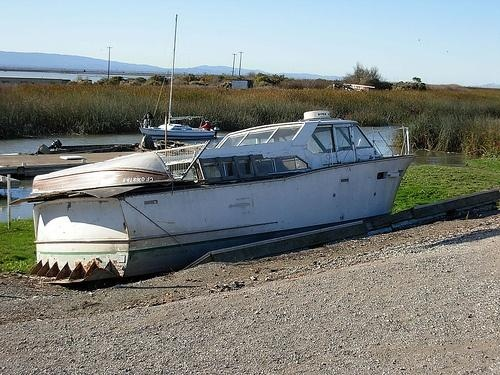boat: (12, 110, 420, 286), (139, 14, 220, 142)
